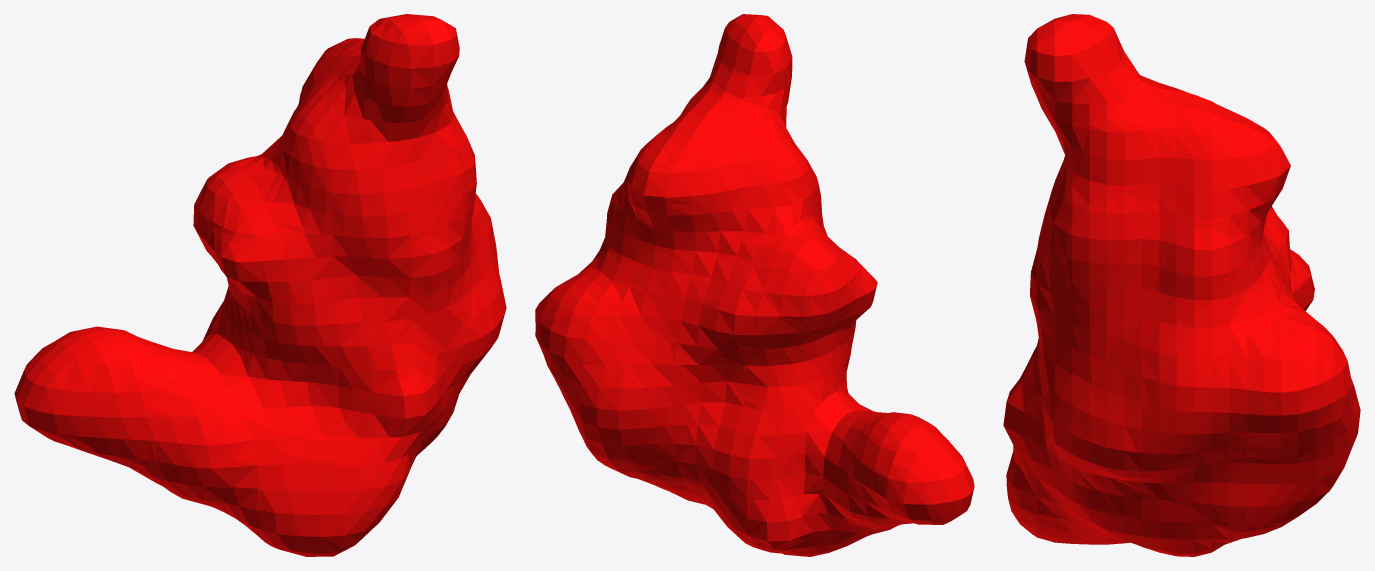
The model's file is rplM_coarse.dae.
3 renders of one model, left to right at view 1: azimuth 30°, elevation 25°; view 2: azimuth 150°, elevation 25°; view 3: azimuth 270°, elevation 25°, orthographic. The views are drawn at different scales.
Visible parts, largest first — view 1: rplM; view 2: rplM; view 3: rplM.
Part boxes in pixels (x1,y1,x2,y2): rplM: (14, 14, 506, 556); rplM: (535, 14, 974, 556); rplM: (1003, 14, 1360, 556).
Bounding box in the file's own units: 54.2 × 59.39 × 33.57.
